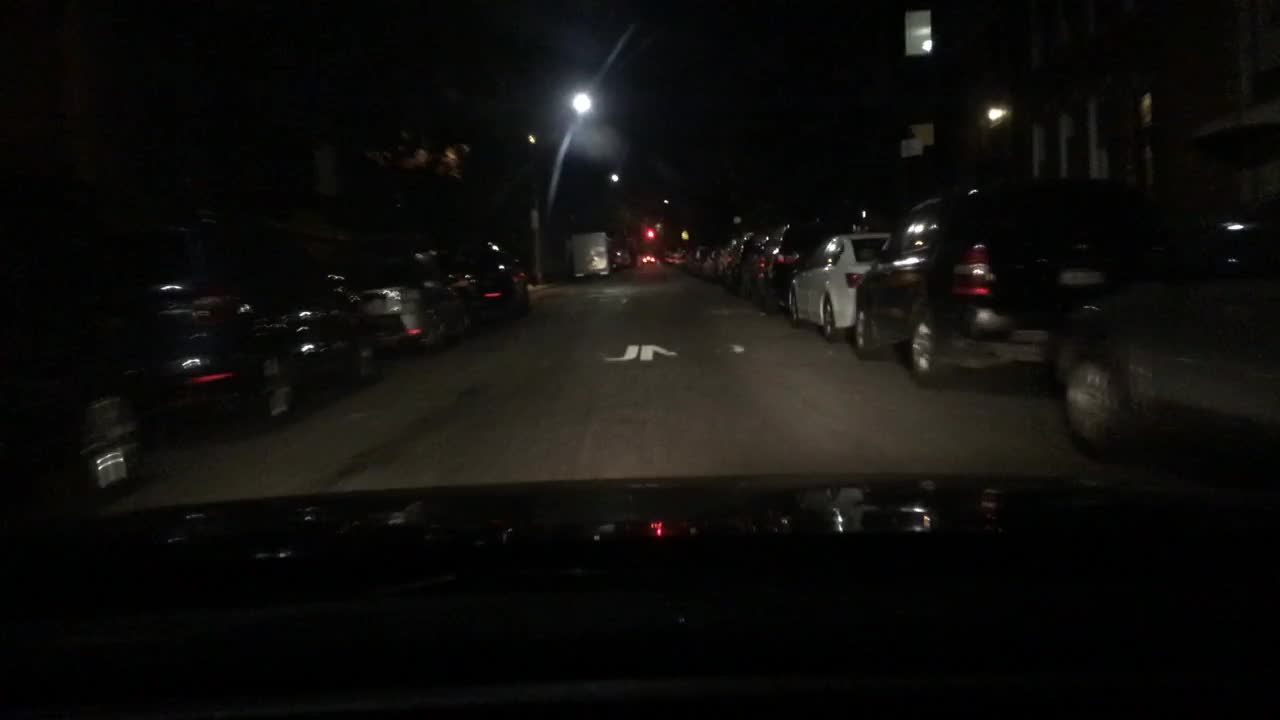car: (1045, 104, 1277, 465), (850, 177, 1158, 390), (67, 223, 376, 426), (0, 311, 142, 515), (331, 249, 472, 351), (788, 232, 892, 335), (746, 222, 845, 319), (442, 240, 531, 323), (726, 234, 766, 303), (708, 240, 746, 279), (701, 252, 719, 277), (687, 252, 706, 275), (676, 252, 688, 272), (638, 252, 656, 264), (616, 250, 627, 267)
traffic light: (646, 227, 656, 240)
traffic sign: (678, 227, 691, 240)
truck: (567, 230, 616, 279)
